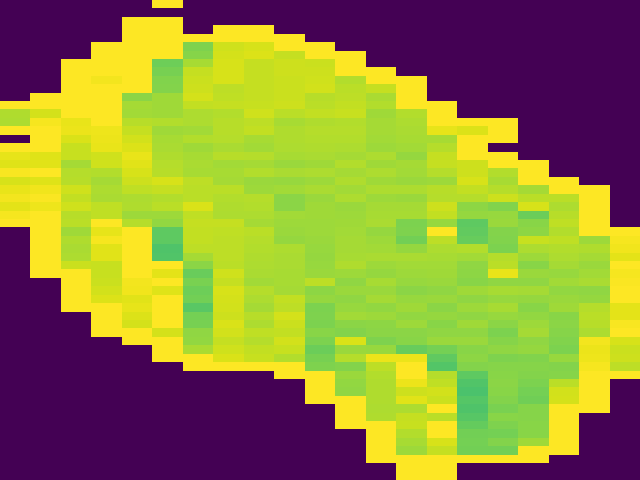car_0027: (1, 2, 640, 480)
